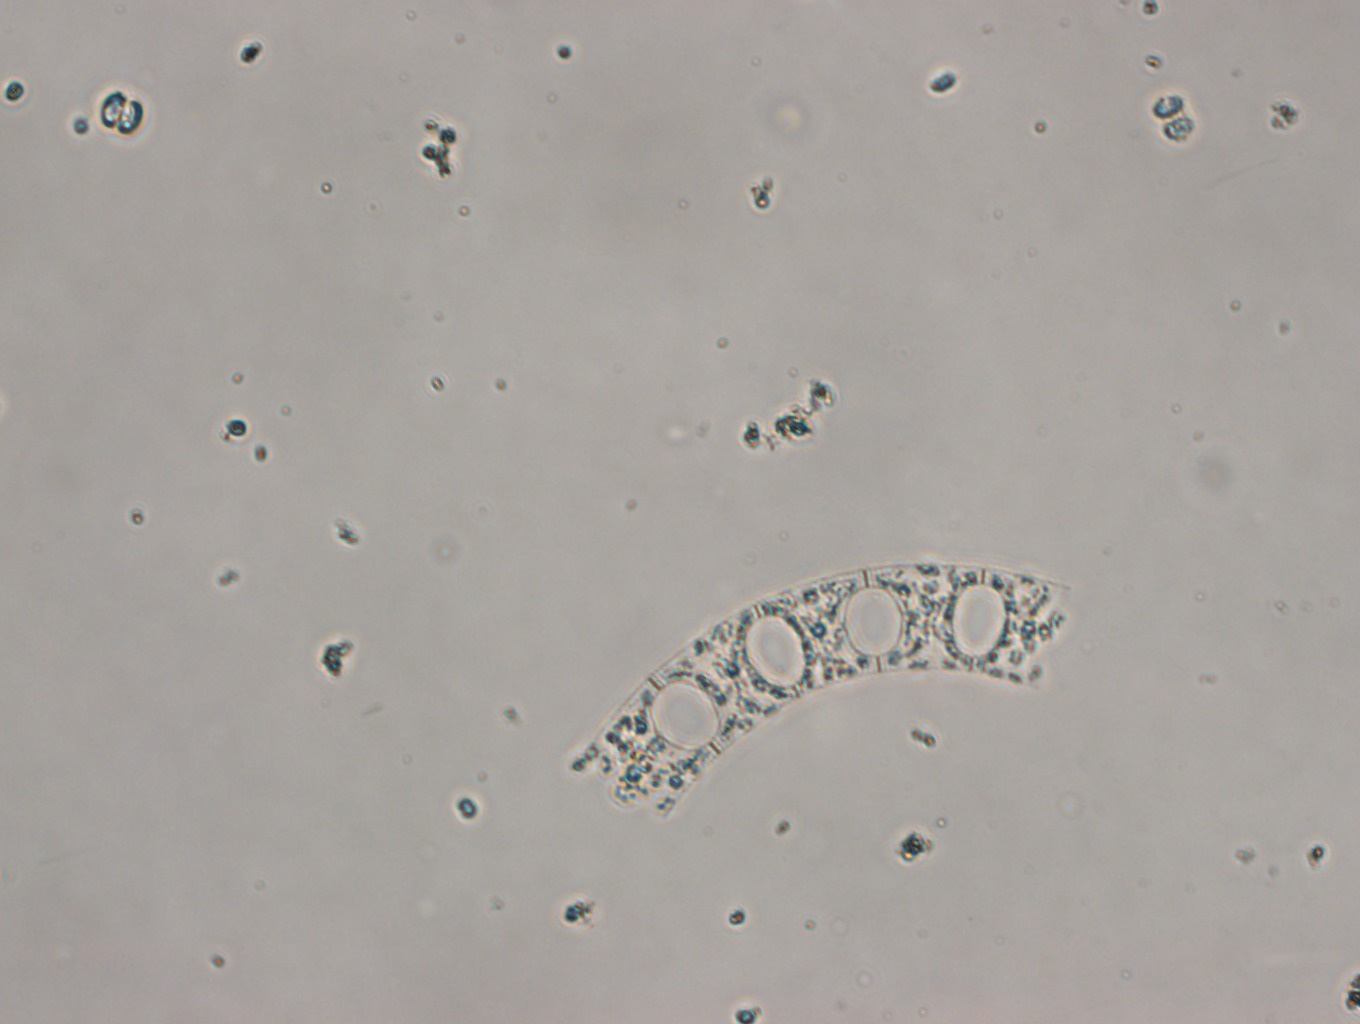eucampia: (566, 568, 1093, 817)
